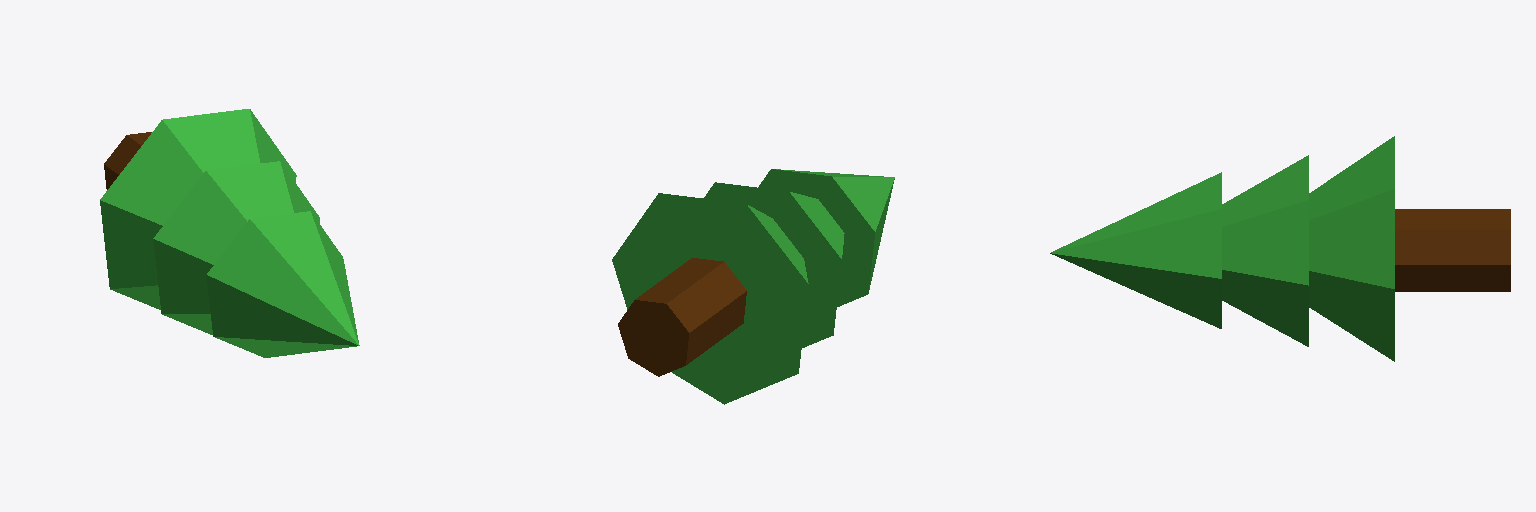
The model's file is tinker.obj.
3 views of the same model, side by side, from view 1: azimuth 30°, elevation 25°; view 2: azimuth 150°, elevation 25°; view 3: azimuth 270°, elevation 25° (orthographic).
Parts seen in each view (by area): view 1: obj_0; view 2: obj_0; view 3: obj_0.
Boxes of the visible parts, <box> form: obj_0: <box>100,109,359,357</box>; obj_0: <box>612,169,894,404</box>; obj_0: <box>1050,136,1510,361</box>.
Size of the model in its own units: 39.4 by 39.4 by 80.